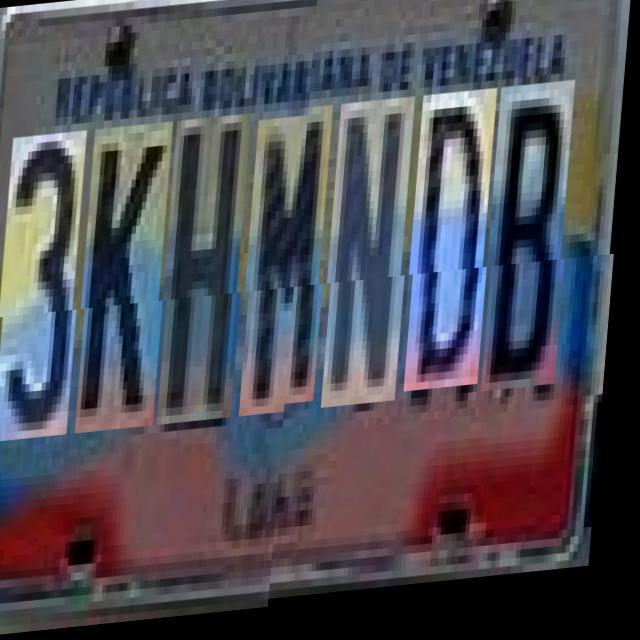3: (0, 132, 94, 442)
B: (488, 100, 582, 411)
D: (411, 106, 504, 409)
H: (164, 118, 258, 430)
K: (82, 125, 180, 436)
M: (246, 120, 340, 422)
N: (328, 113, 422, 424)
